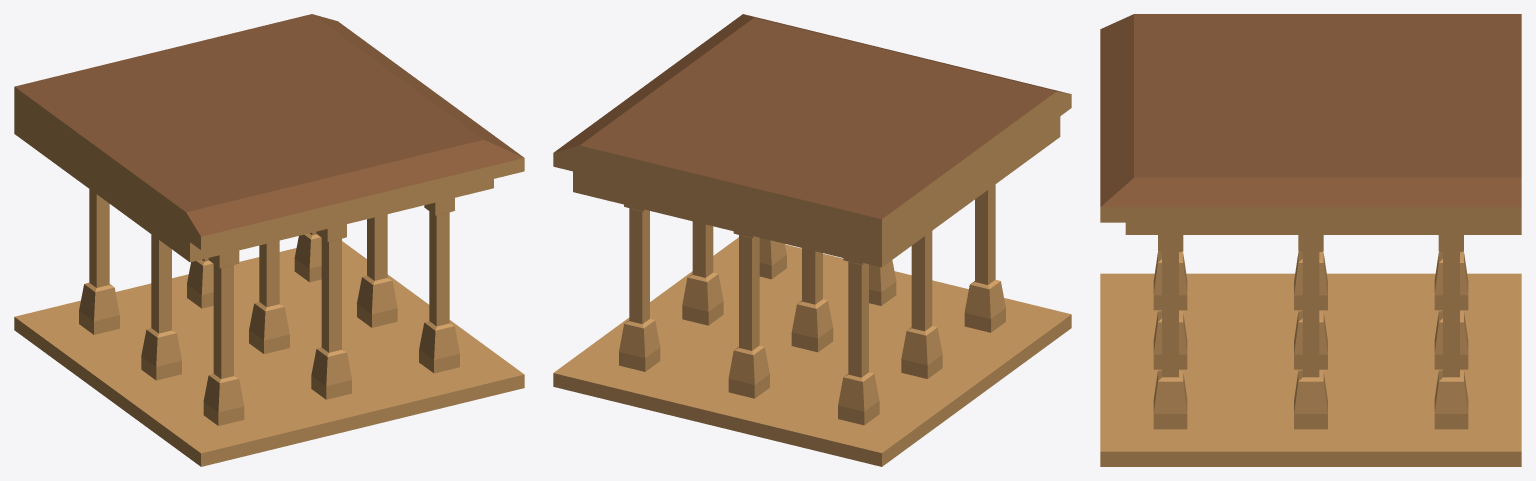
Rendered from hindu-pillars-edge.glb.
3 views of the same model, side by side, from view 1: azimuth 30°, elevation 25°; view 2: azimuth 150°, elevation 25°; view 3: azimuth 270°, elevation 25° (orthographic). The views are drawn at different scales.
Parts seen in each view (by area): view 1: hindu-pillars-edge; view 2: hindu-pillars-edge; view 3: hindu-pillars-edge.
Boxes of the visible parts, x1,y1,x2,y2 form: hindu-pillars-edge: (14,14,524,466); hindu-pillars-edge: (553,14,1071,466); hindu-pillars-edge: (1100,14,1521,466).
Size of the model in its own units: 5 by 3.6 by 5.
Materials: 1 (1 with a texture image).
